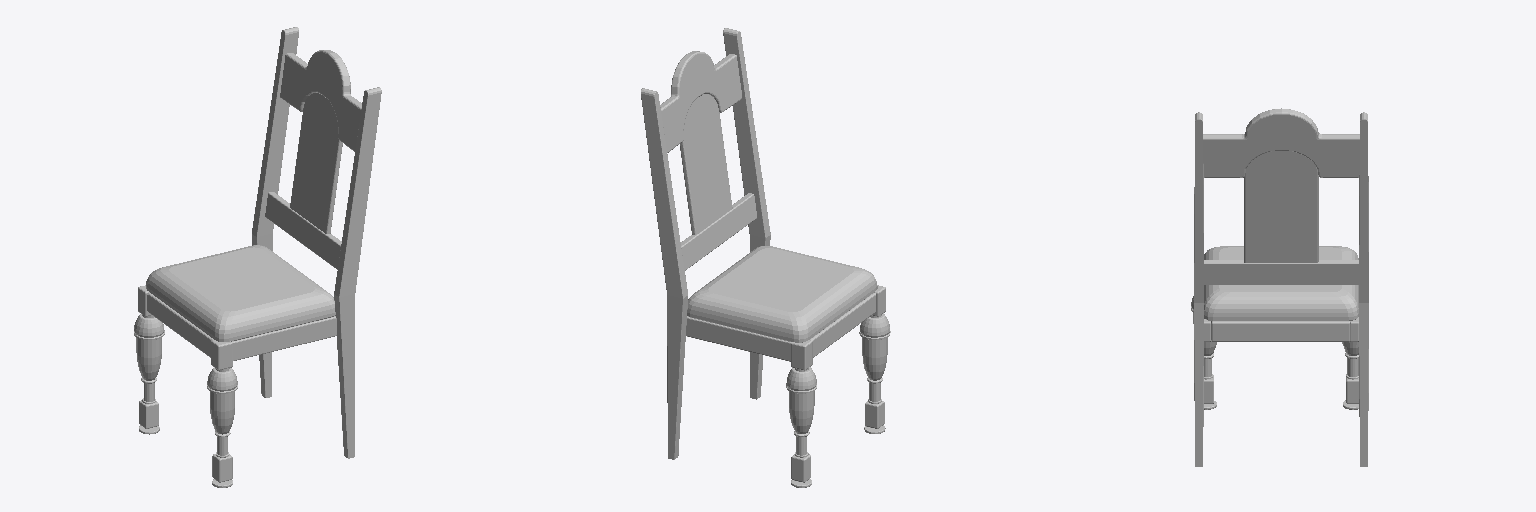
File: dining room chair.obj
3 views of the same model, side by side, from view 1: azimuth 30°, elevation 25°; view 2: azimuth 150°, elevation 25°; view 3: azimuth 270°, elevation 25° (orthographic).
Parts seen in each view (by area): view 1: pCube16; view 2: pCube16; view 3: pCube16.
Boxes of the visible parts, x1,y1,x2,y2 form: pCube16: [134, 27, 381, 487]; pCube16: [641, 28, 890, 487]; pCube16: [1191, 108, 1368, 466].
Bounding box in the file's own units: 49.41 × 104 × 45.57.